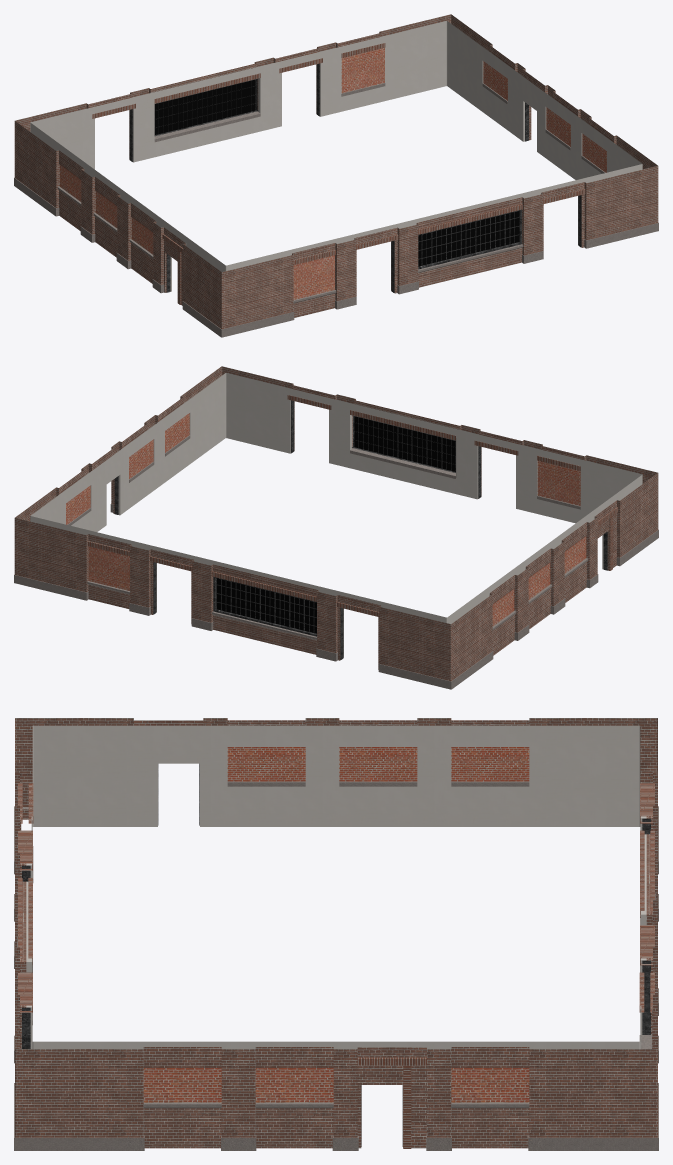
Rendered from BuildingA_Bottom_VarA.fbx.
3 renders of one model, top to bottom at view 1: azimuth 30°, elevation 25°; view 2: azimuth 150°, elevation 25°; view 3: azimuth 270°, elevation 25°, orthographic. The views are drawn at different scales.
Parts seen in each view (by area): view 1: BuildingA_Bottom_VarA; view 2: BuildingA_Bottom_VarA; view 3: BuildingA_Bottom_VarA.
Part boxes in pixels (x1,y1,x2,y2): BuildingA_Bottom_VarA: (14,14,658,337); BuildingA_Bottom_VarA: (14,366,658,689); BuildingA_Bottom_VarA: (14,718,658,1150).
Size of the model in its own units: 2807 by 400 by 2307.
